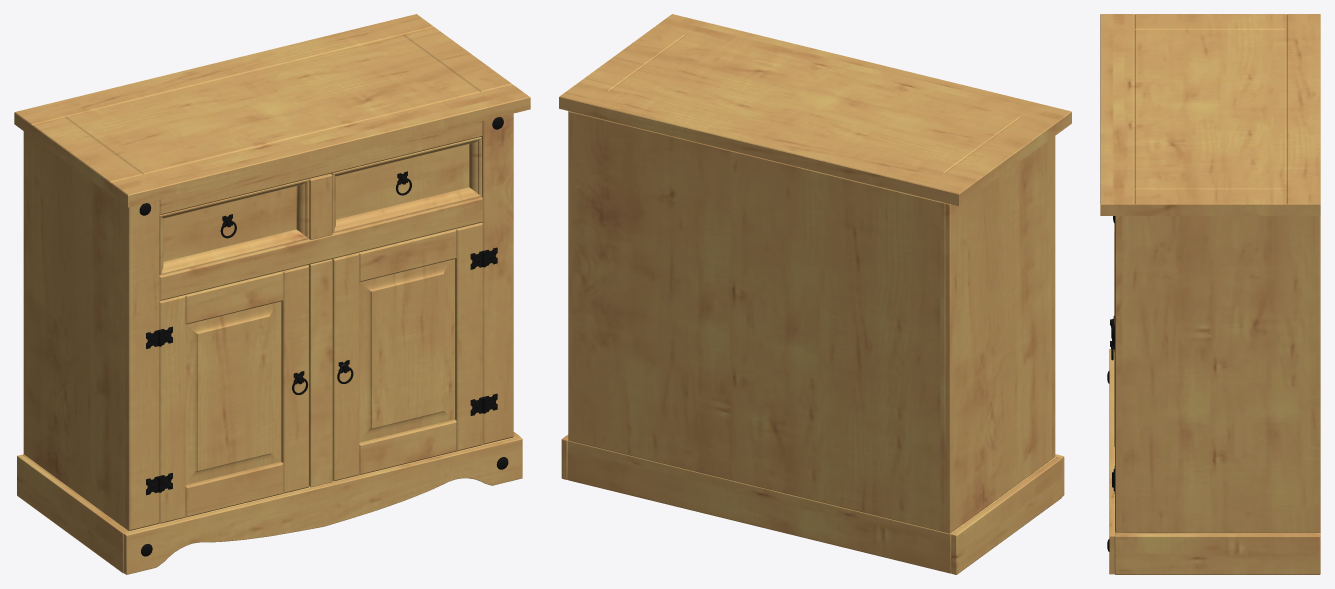
Rendered from B01HEZJ3EC.glb.
The picture shows the model from 3 angles, left to right: view 1: azimuth 30°, elevation 25°; view 2: azimuth 150°, elevation 25°; view 3: azimuth 270°, elevation 25°; orthographic projection. The views are drawn at different scales.
Visible parts, largest first — view 1: B01HEZJ3EC; view 2: B01HEZJ3EC; view 3: B01HEZJ3EC.
Part boxes in pixels (box(x1,y1,x2,y2)): B01HEZJ3EC: box(14, 14, 530, 574); B01HEZJ3EC: box(559, 14, 1071, 574); B01HEZJ3EC: box(1100, 14, 1320, 574).
Bounding box in the file's own units: 0.92 × 0.84 × 0.4501.
Materials: 1 (1 with a texture image).
